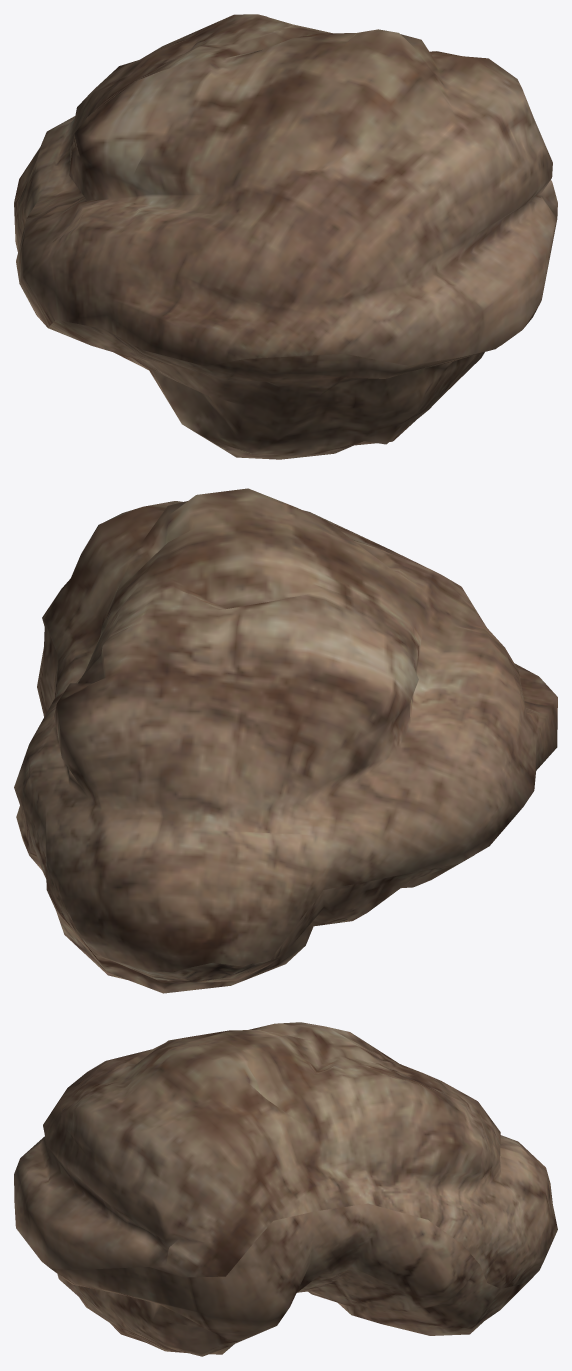
The model's file is rock_small06_projected.dae.
3 views of the same model, one above another, from view 1: azimuth 30°, elevation 25°; view 2: azimuth 150°, elevation 25°; view 3: azimuth 270°, elevation 25° (orthographic). The views are drawn at different scales.
Parts seen in each view (by area): view 1: Mesh04; view 2: Mesh04; view 3: Mesh04.
Part boxes in pixels (bbox=[...]): Mesh04: bbox=[14, 14, 557, 459]; Mesh04: bbox=[14, 488, 557, 993]; Mesh04: bbox=[14, 1022, 557, 1356].
Size of the model in its own units: 1.72 by 1.28 by 2.
